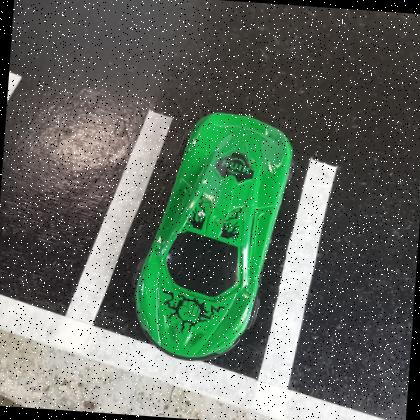Car: (134, 113, 293, 362)
